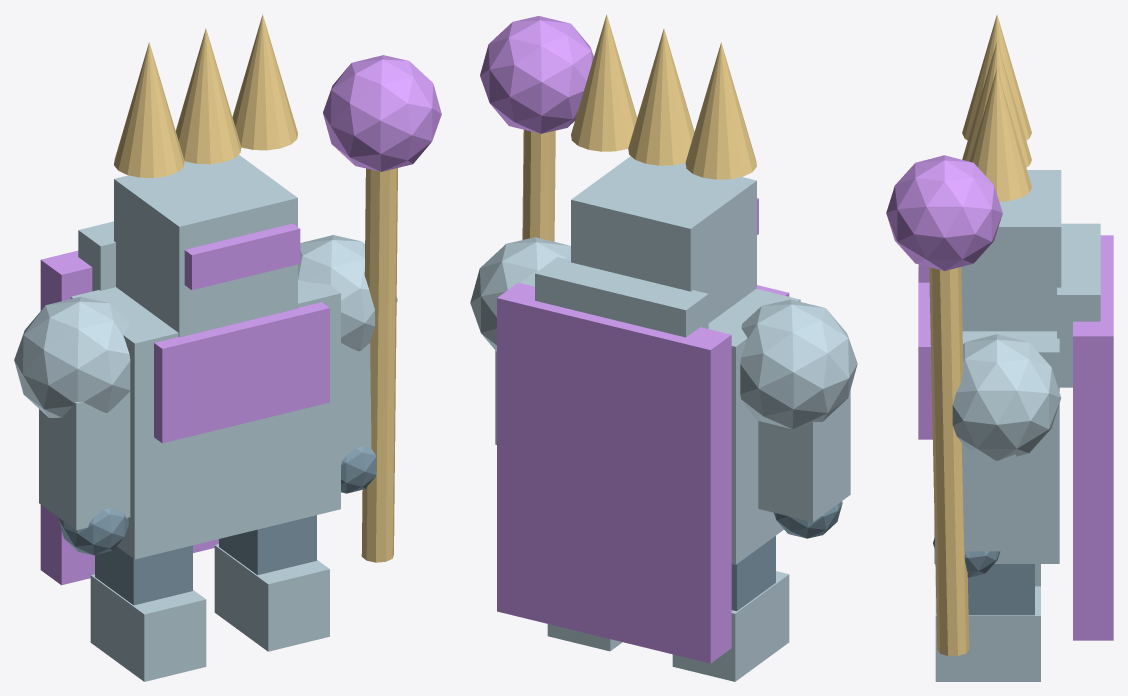
File: sovereign_lyra.glb
3 views of the same model, side by side, from view 1: azimuth 30°, elevation 25°; view 2: azimuth 150°, elevation 25°; view 3: azimuth 270°, elevation 25° (orthographic). The views are drawn at different scales.
Visible parts, largest first — view 1: torso_4, helmet_6, chestplate_5, hero_staff_19, shoulder_joint_8, orb_emitter_20, arm_armor_9, boots_0, boots_2, crown_fin_16, crown_fin_18, crown_fin_17 (+9 smaller); view 2: leader_cape_15, helmet_6, shoulder_joint_8, orb_emitter_20, arm_armor_9, power_backpack_14, torso_4, crown_fin_16, crown_fin_17, crown_fin_18, boots_0, shoulder_joint_11 (+4 smaller); view 3: leader_cape_15, helmet_6, hero_staff_19, shoulder_joint_11, orb_emitter_20, torso_4, boots_2, arm_armor_12, power_backpack_14, crown_fin_18, leg_armor_3, chestplate_5 (+3 smaller).
Boxes of the visible parts, left/top/right/bottom form: torso_4: left=70, top=280, right=340, bottom=559; helmet_6: left=114, top=155, right=297, bottom=337; chestplate_5: left=154, top=302, right=329, bottom=443; hero_staff_19: left=361, top=168, right=397, bottom=562; shoulder_joint_8: left=14, top=296, right=130, bottom=417; orb_emitter_20: left=323, top=55, right=441, bottom=171; arm_armor_9: left=39, top=391, right=130, bottom=530; boots_0: left=90, top=574, right=206, bottom=681; boots_2: left=214, top=544, right=329, bottom=651; crown_fin_16: left=114, top=42, right=184, bottom=177; crown_fin_18: left=232, top=14, right=297, bottom=150; crown_fin_17: left=175, top=28, right=241, bottom=164; leader_cape_15: left=497, top=282, right=731, bottom=663; helmet_6: left=571, top=156, right=756, bottom=322; shoulder_joint_8: left=740, top=299, right=857, bottom=429; orb_emitter_20: left=480, top=16, right=593, bottom=133; arm_armor_9: left=758, top=390, right=850, bottom=521; power_backpack_14: left=535, top=257, right=708, bottom=337; torso_4: left=708, top=289, right=800, bottom=564; crown_fin_16: left=685, top=42, right=756, bottom=179; crown_fin_17: left=628, top=29, right=694, bottom=165; crown_fin_18: left=571, top=14, right=636, bottom=151; boots_0: left=672, top=571, right=789, bottom=681; shoulder_joint_11: left=470, top=237, right=570, bottom=351; leader_cape_15: left=1073, top=235, right=1113, bottom=640; helmet_6: left=961, top=170, right=1061, bottom=331; hero_staff_19: left=929, top=267, right=969, bottom=655; shoulder_joint_11: left=952, top=334, right=1061, bottom=460; orb_emitter_20: left=886, top=155, right=1002, bottom=270; torso_4: left=934, top=331, right=1059, bottom=563; boots_2: left=935, top=586, right=1040, bottom=681; arm_armor_12: left=962, top=443, right=1015, bottom=551; power_backpack_14: left=1057, top=223, right=1100, bottom=387; crown_fin_18: left=969, top=69, right=1031, bottom=201; leg_armor_3: left=968, top=564, right=1034, bottom=615; chestplate_5: left=918, top=267, right=932, bottom=439.
Bounding box in the file's own units: 1.49 × 2.25 × 0.78.
